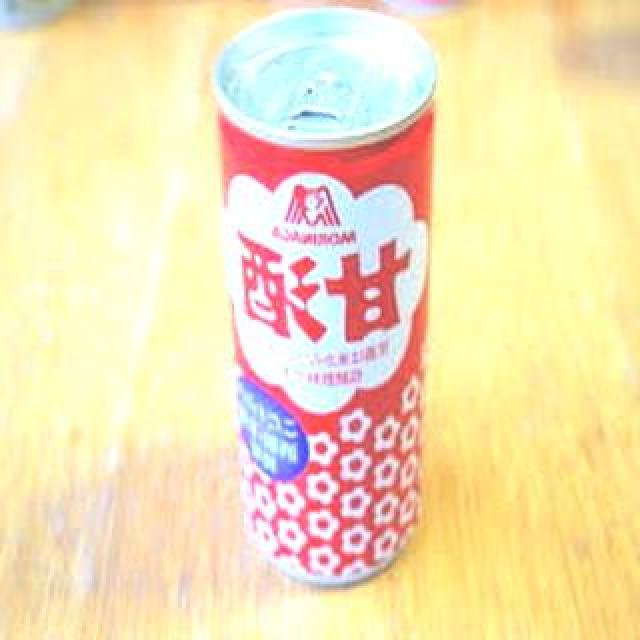Can: (211, 9, 439, 587)
